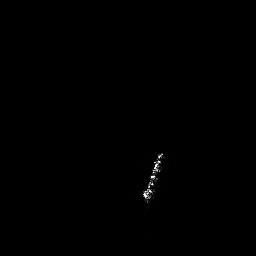ship: (141, 152, 164, 205)
